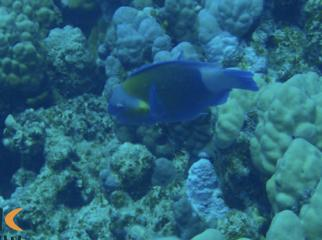Scaridae -Parrotfishes-: (103, 47, 261, 131)
